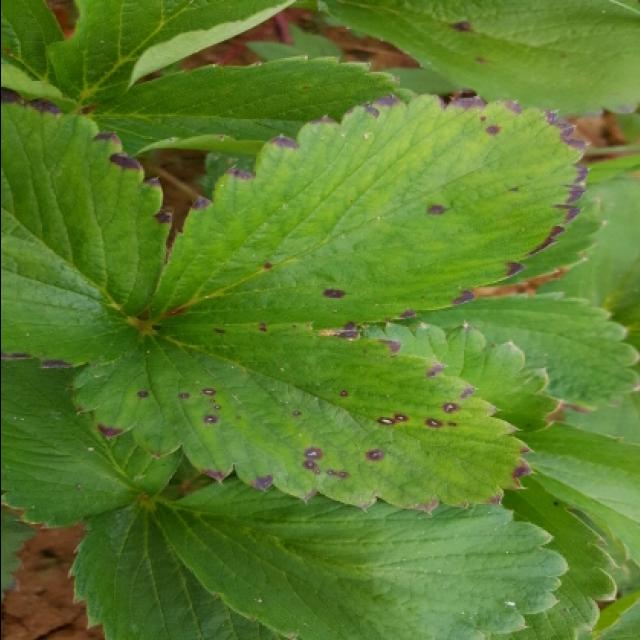Leaf Spot: (149, 91, 590, 333), (64, 318, 536, 515), (310, 0, 640, 122)
